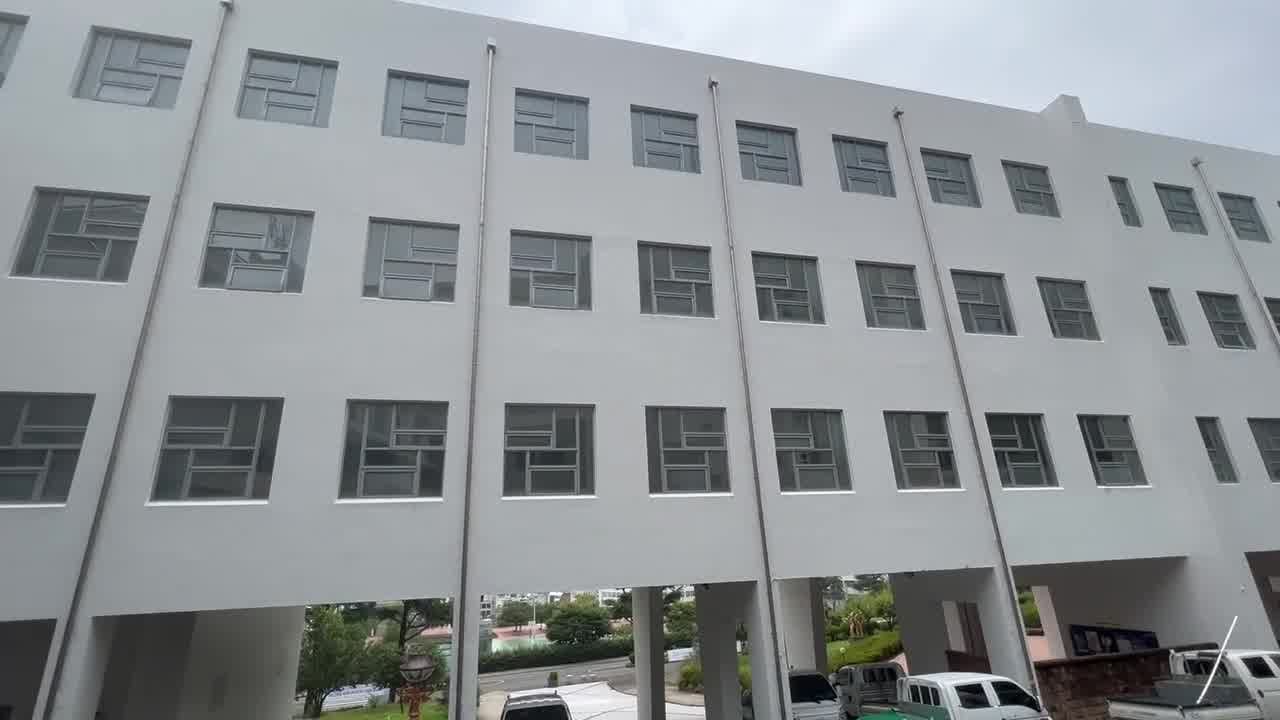high: (14, 0, 1263, 551)
